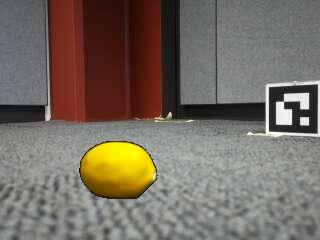lemon: (81, 141, 155, 198)
